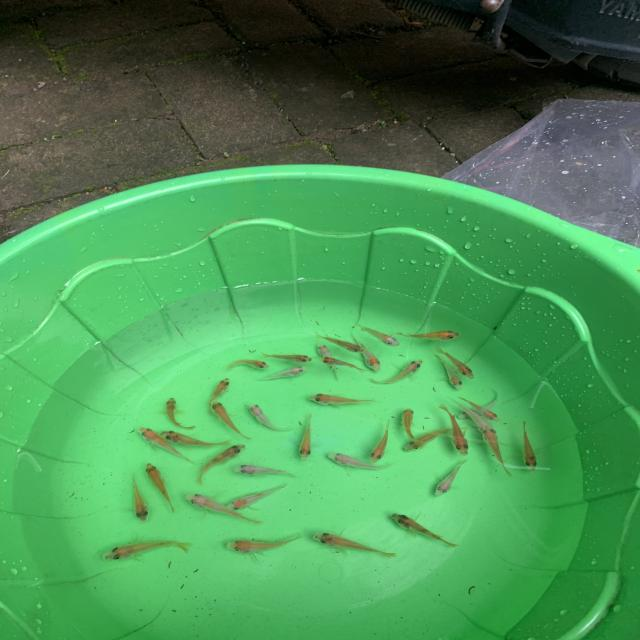nila: (183, 492, 264, 526), (311, 532, 399, 562), (390, 513, 462, 549), (137, 424, 197, 466), (196, 440, 247, 486), (477, 422, 517, 480), (100, 540, 193, 563), (448, 396, 498, 438), (144, 461, 185, 510), (223, 532, 306, 556), (436, 399, 469, 458), (221, 483, 291, 510), (428, 456, 471, 499), (368, 358, 428, 388), (454, 388, 508, 421), (324, 452, 400, 475), (210, 398, 250, 440), (514, 417, 542, 473), (403, 424, 452, 455), (364, 417, 396, 463), (437, 346, 478, 381), (158, 428, 233, 447), (433, 352, 467, 392), (351, 330, 384, 370), (248, 402, 292, 432), (306, 390, 375, 409), (457, 396, 507, 422), (127, 471, 152, 522), (400, 404, 427, 451), (317, 341, 346, 381), (204, 375, 233, 415), (316, 331, 366, 354), (356, 324, 404, 347), (164, 396, 197, 429), (294, 413, 316, 461), (235, 462, 300, 478), (397, 328, 464, 342), (316, 355, 371, 372), (257, 366, 308, 384), (258, 351, 315, 366), (223, 355, 271, 372)
